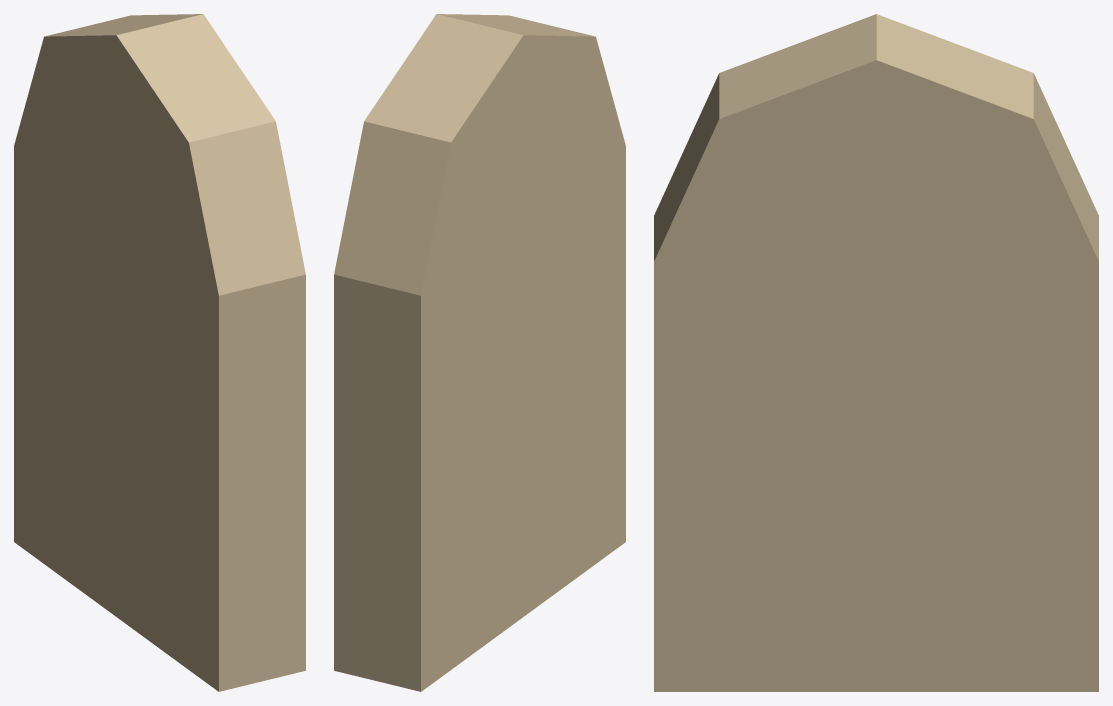
Rendered from Wood_Door_01.glb.
The picture shows the model from 3 angles, left to right: view 1: azimuth 30°, elevation 25°; view 2: azimuth 150°, elevation 25°; view 3: azimuth 270°, elevation 25°; orthographic projection. The views are drawn at different scales.
Parts seen in each view (by area): view 1: Mesh1 Wood_Door Model; view 2: Mesh1 Wood_Door Model; view 3: Mesh1 Wood_Door Model.
Part boxes in pixels (<box>): Mesh1 Wood_Door Model: <box>14,14,305,691</box>; Mesh1 Wood_Door Model: <box>334,14,625,691</box>; Mesh1 Wood_Door Model: <box>654,14,1098,691</box>.
Size of the model in its own units: 0.3 by 1.92 by 1.22.
